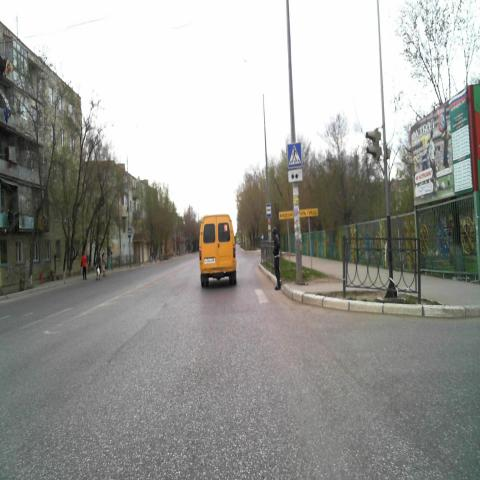8_15: (288, 169, 302, 183)
